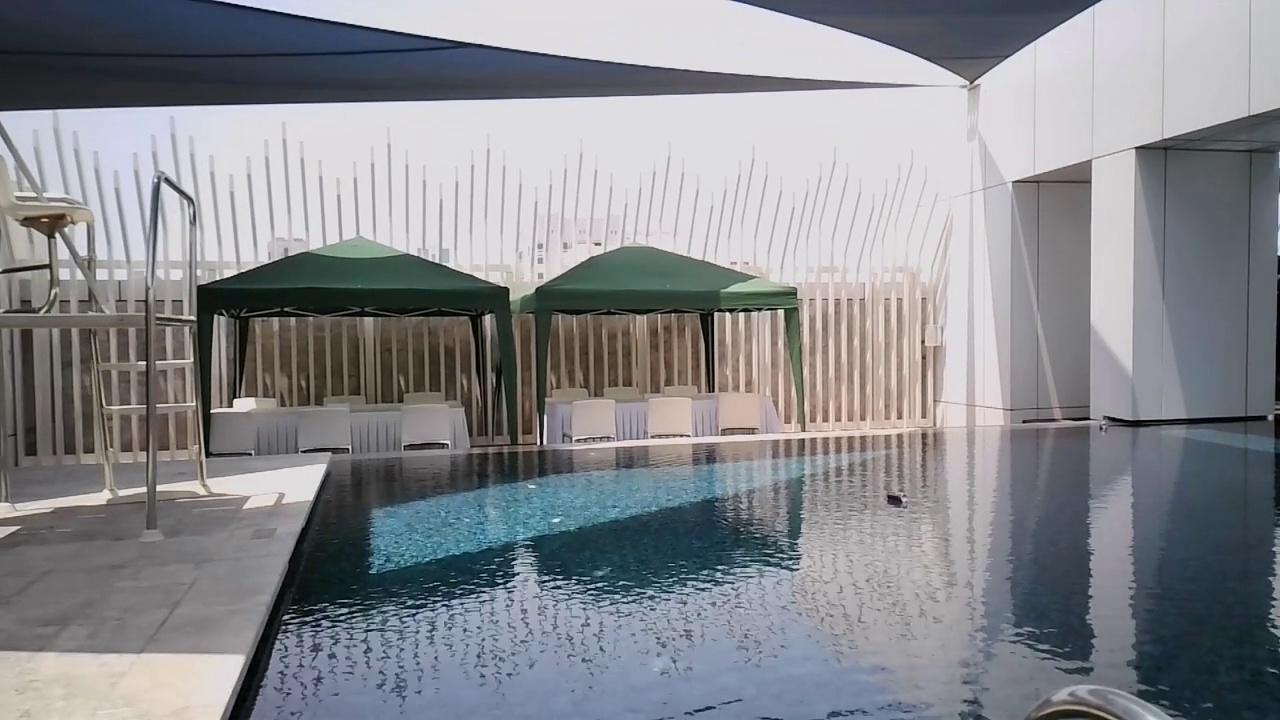debris: (882, 487, 909, 509), (1094, 417, 1111, 435)
